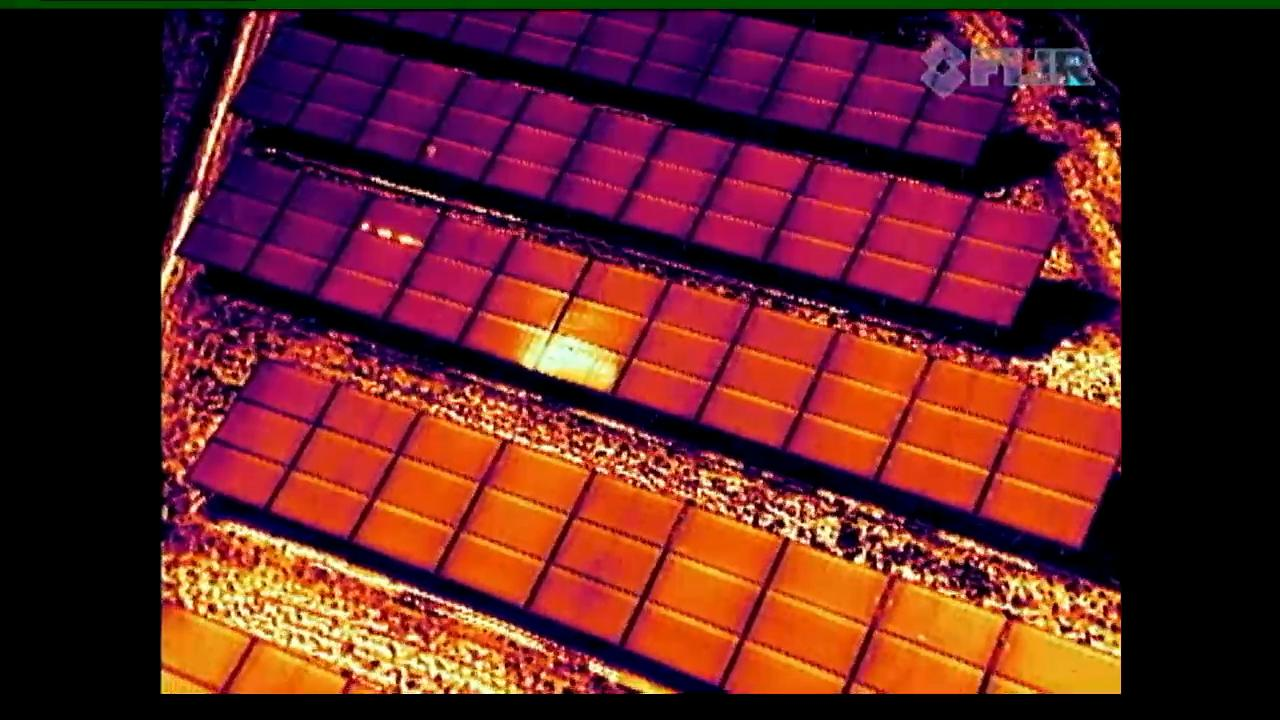hotspot: (320, 193, 439, 327), (413, 72, 527, 183)
